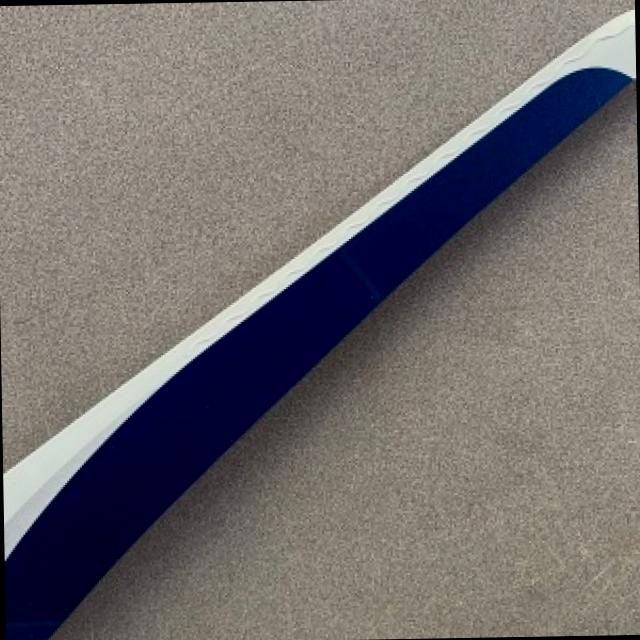healthy: (52, 82, 640, 640)
